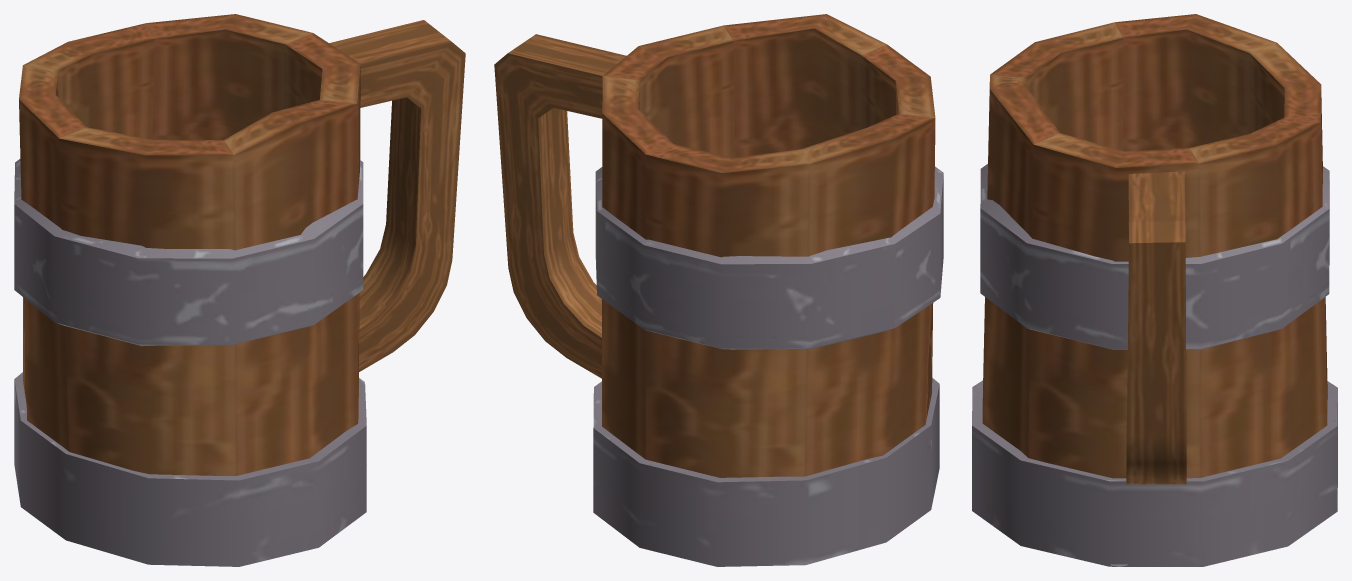
The model's file is Mug.gltf.
The picture shows the model from 3 angles, left to right: view 1: azimuth 30°, elevation 25°; view 2: azimuth 150°, elevation 25°; view 3: azimuth 270°, elevation 25°; orthographic projection. The views are drawn at different scales.
Parts seen in each view (by area): view 1: Mug; view 2: Mug; view 3: Mug.
Part boxes in pixels (x1,y1,x2,y2): Mug: (14,14,465,566); Mug: (494,14,943,566); Mug: (972,14,1337,566).
Size of the model in its own units: 0.1921 by 0.1839 by 0.1468.
Materials: 2 (2 with a texture image).
